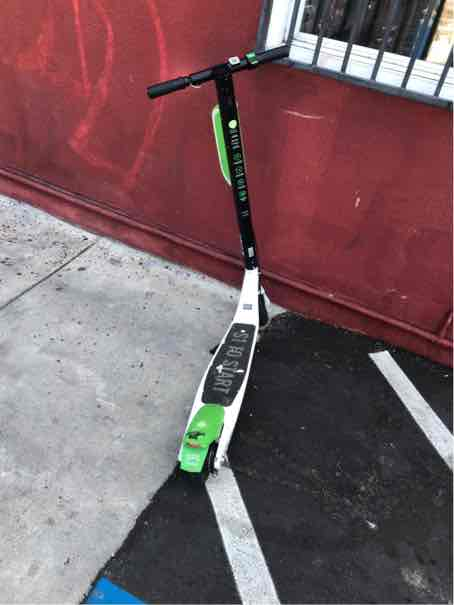scooter: (142, 44, 304, 484)
